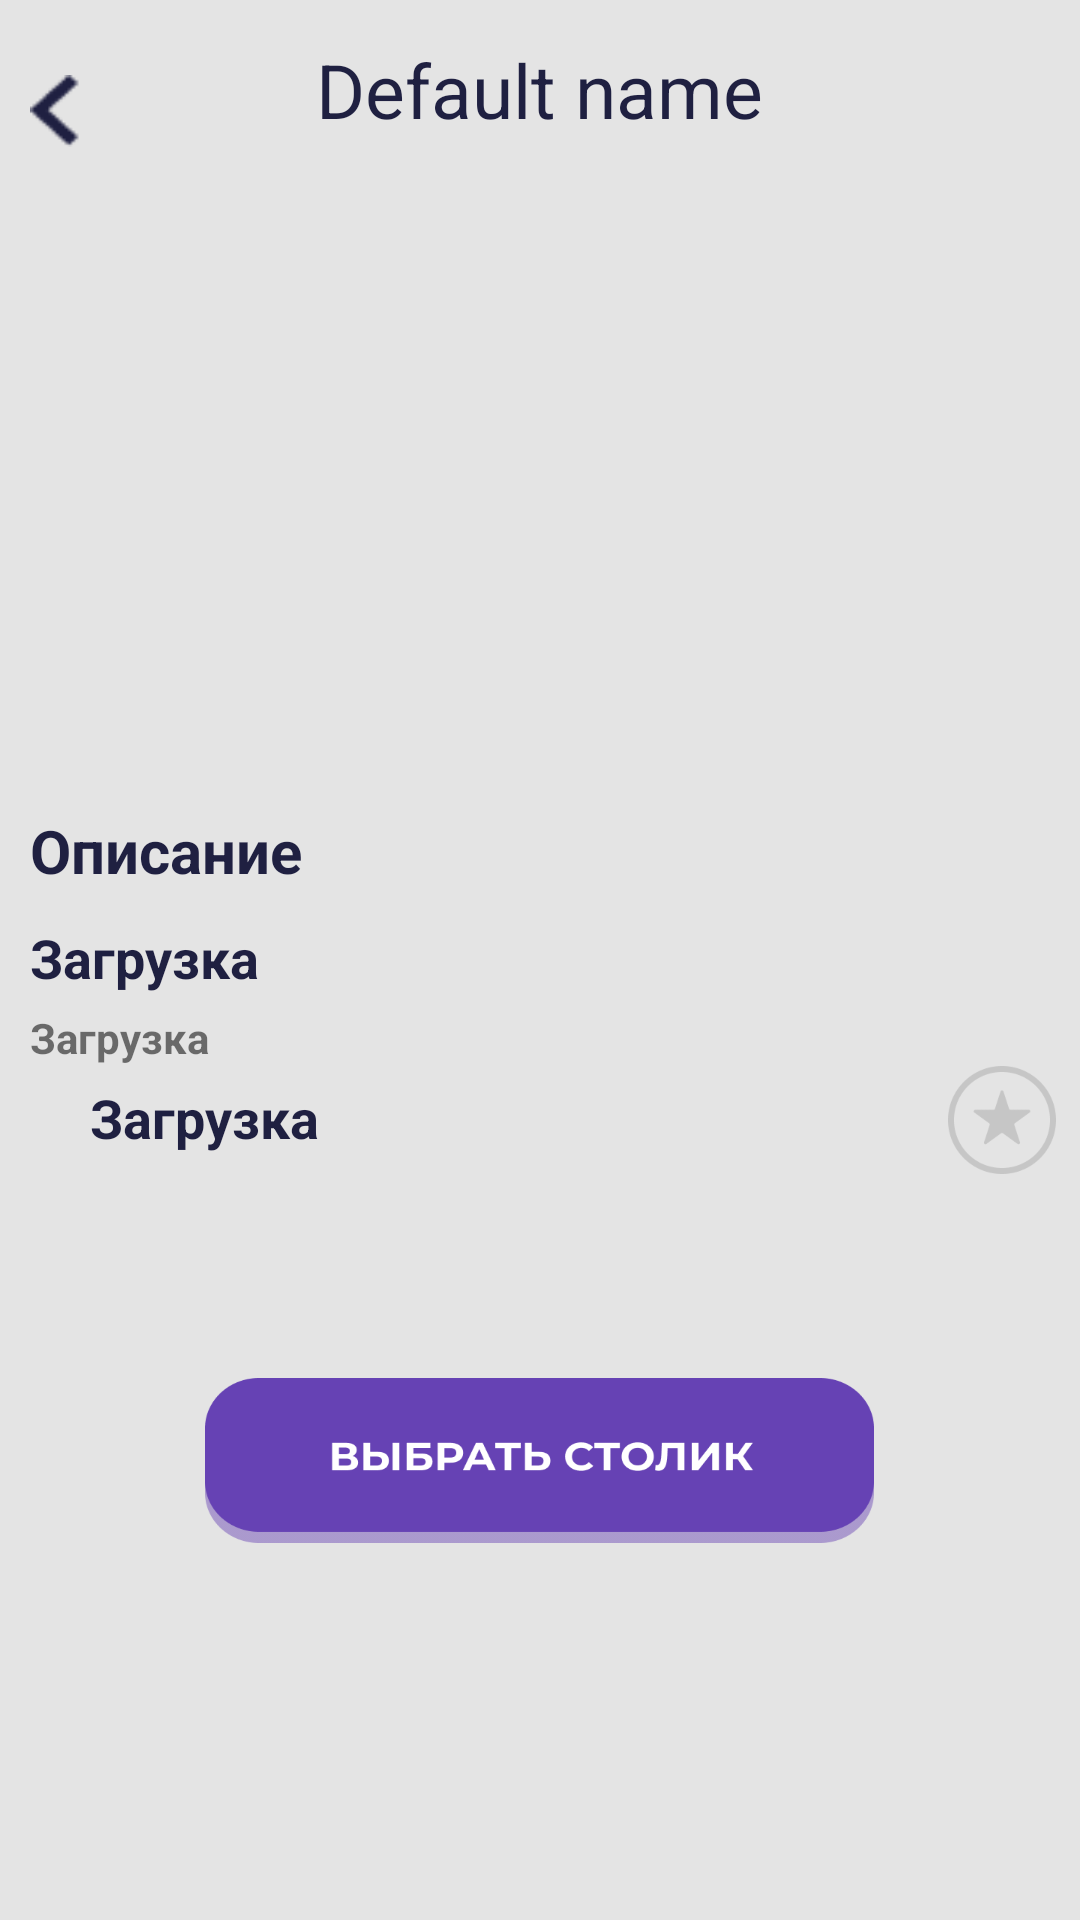

Icons on this 1080w x 1920h Android screen, each with the point to tap as point (x, y):
backk: point (54, 110)
favorite star: point (1002, 1120)
